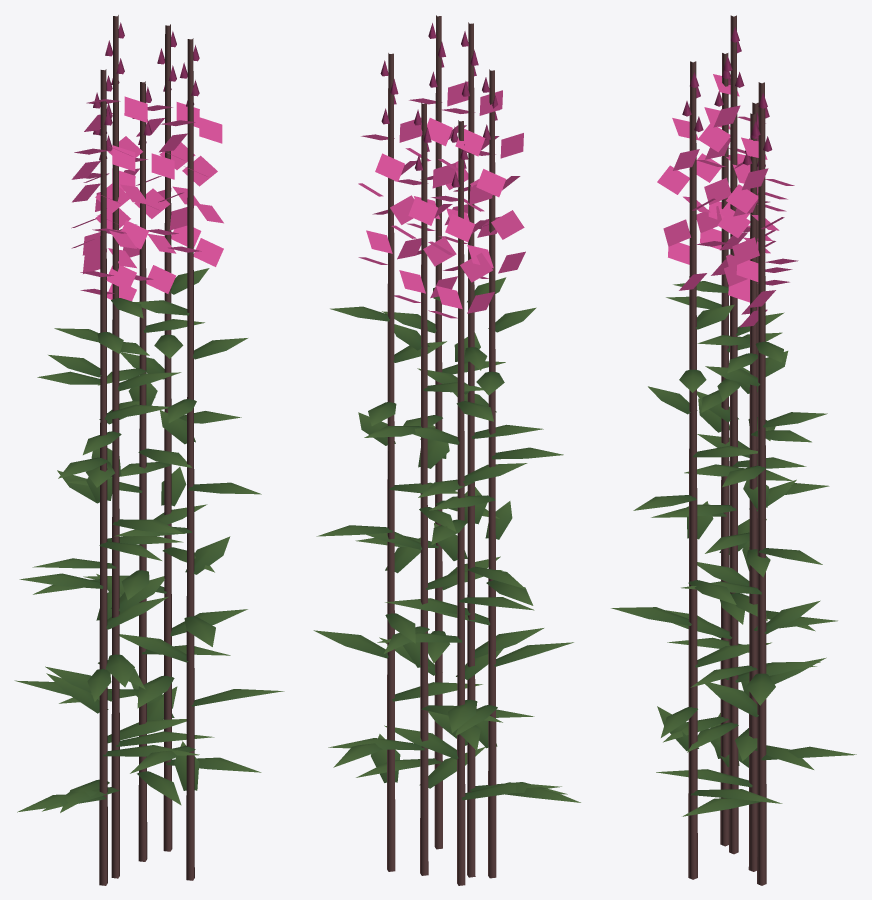
Rendered from fireweed.glb.
3 views of the same model, side by side, from view 1: azimuth 30°, elevation 25°; view 2: azimuth 150°, elevation 25°; view 3: azimuth 270°, elevation 25° (orthographic). The views are drawn at different scales.
Visible parts, largest first — view 1: fireweed; view 2: fireweed; view 3: fireweed.
Part boxes in pixels (<box>): fireweed: <box>14,15,284,885</box>; fireweed: <box>313,15,580,885</box>; fireweed: <box>611,15,856,885</box>.
Size of the model in its own units: 0.3541 by 1.16 by 0.31.
